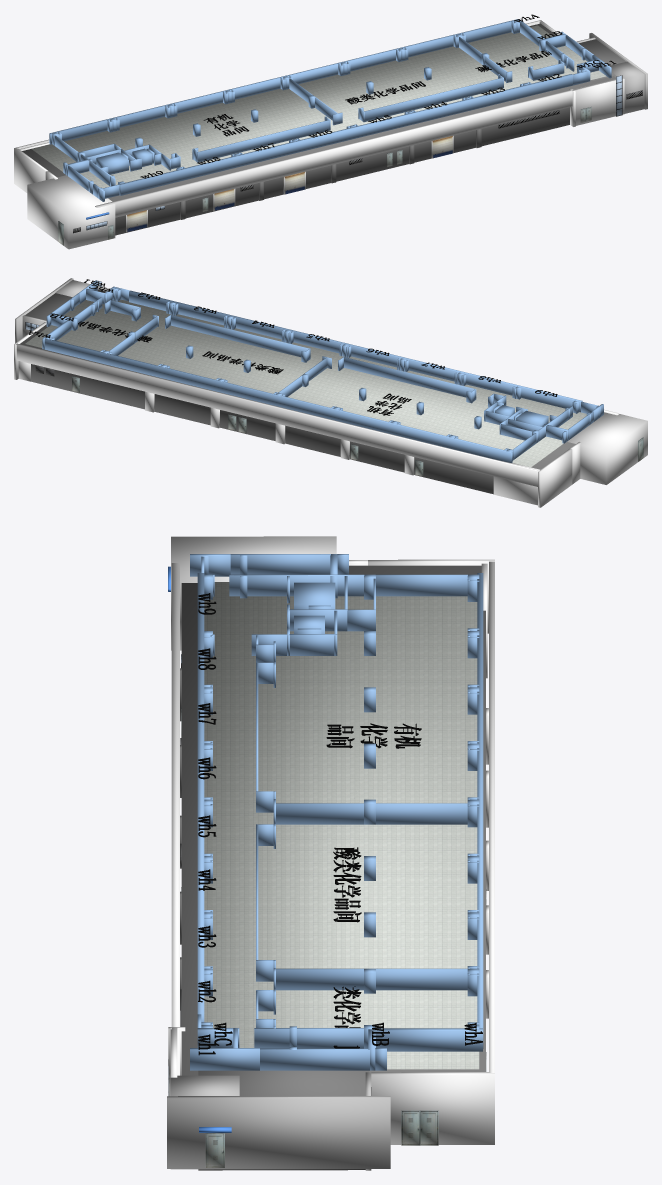
The model's file is whfa_2f_mini.gltf.
3 renders of one model, top to bottom at view 1: azimuth 30°, elevation 25°; view 2: azimuth 150°, elevation 25°; view 3: azimuth 270°, elevation 25°, orthographic. The views are drawn at different scales.
Visible parts, largest first — view 1: whfa_dimian_2f, whfa_waiguan_2_55, whfa_waiguan_2_34, whfa_qiang_2f_132, whfa_qiang_2f_128, whfa_waiguan_2_44, whfa_qiang_2f_31, whfa_qiang_2f_23, whfa_waiguan_2_20, whfa_waiguan_2_7, whfa_waiguan_2_18, whfa_waiguan_2_36 (+11 smaller); view 2: whfa_dimian_2f, whfa_waiguan_2_53, whfa_waiguan_2_55, whfa_qiang_2f_128, whfa_qiang_2f_132, whfa_waiguan_2_44, whfa_qiang_2f_31, whfa_qiang_2f_23, whfa_waiguan_2_18, whfa_waiguan_2_41, whfa_waiguan_2_36, whfa_qiang_2f_25 (+7 smaller); view 3: whfa_dimian_2f, whfa_waiguan_2_35, whfa_waiguan_2_55, whfa_waiguan_2_19, whfa_waiguan_2_34, whfa_qiang_2f_25, whfa_qiang_2f_24, whfa_waiguan_2_36, whfa_waiguan_2_44, whfa_qiang_2f_132, whfa_qiang_2f_128, whfa_waiguan_2_53 (+13 smaller).
Boxes of the visible parts, x1,y1,x2,y2 form: whfa_dimian_2f: (32,25,606,188); whfa_waiguan_2_55: (22,23,615,235); whfa_waiguan_2_34: (95,79,615,217); whfa_qiang_2f_132: (119,74,572,195); whfa_qiang_2f_128: (49,19,516,144); whfa_waiguan_2_44: (27,175,115,249); whfa_qiang_2f_31: (363,77,502,121); whfa_qiang_2f_23: (197,120,329,162); whfa_waiguan_2_20: (572,78,624,125); whfa_waiguan_2_7: (610,61,644,113); whfa_waiguan_2_18: (14,147,47,192); whfa_waiguan_2_36: (568,39,626,86); whfa_dimian_2f: (25,299,586,467); whfa_waiguan_2_53: (16,343,539,486); whfa_waiguan_2_55: (20,289,575,494); whfa_qiang_2f_128: (44,339,512,462); whfa_qiang_2f_132: (129,290,582,412); whfa_waiguan_2_44: (567,412,647,484); whfa_qiang_2f_31: (171,315,310,357); whfa_qiang_2f_23: (344,357,476,399); whfa_waiguan_2_18: (538,448,572,507); whfa_waiguan_2_41: (493,459,539,505); whfa_waiguan_2_36: (25,293,128,320); whfa_qiang_2f_25: (109,316,157,355); whfa_dimian_2f: (204,582,479,1069); whfa_waiguan_2_35: (167,1096,390,1168); whfa_waiguan_2_55: (181,565,485,1075); whfa_waiguan_2_19: (371,1072,494,1144); whfa_waiguan_2_34: (171,563,179,1075); whfa_qiang_2f_25: (276,968,467,990); whfa_qiang_2f_24: (276,803,467,824); whfa_waiguan_2_36: (198,1070,369,1170); whfa_waiguan_2_44: (171,536,336,650); whfa_qiang_2f_132: (197,573,204,1022); whfa_qiang_2f_128: (477,573,483,1048); whfa_waiguan_2_53: (489,561,494,1072).
Size of the model in its own units: 355 by 27.16 by 86.62.
14 materials, 8 textured.
